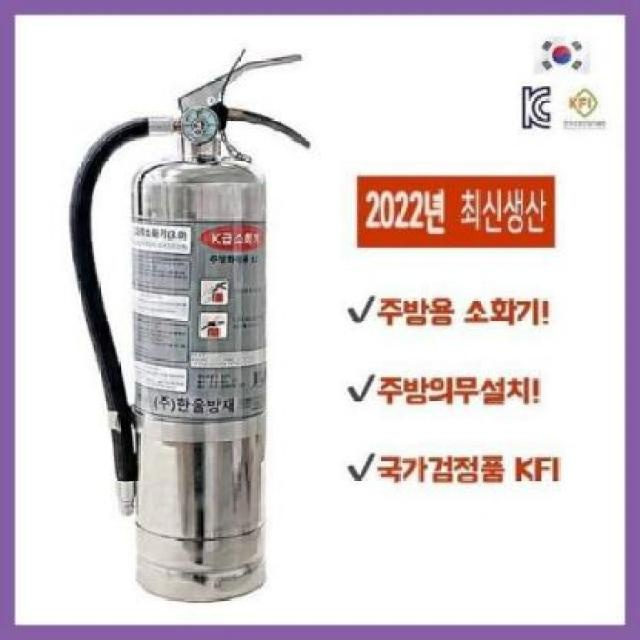fire extinguisher: (67, 53, 311, 604)
